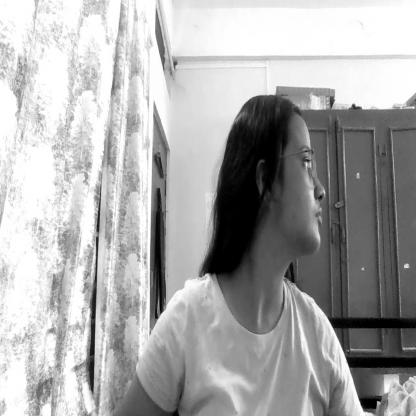Distracted: (234, 85, 326, 260)
